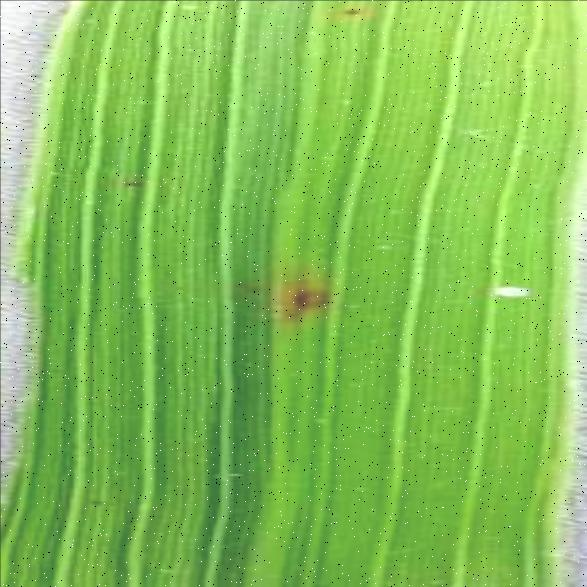Brown_Spot: (274, 274, 333, 321), (112, 166, 149, 192), (80, 489, 112, 511), (334, 0, 366, 20), (223, 270, 247, 290), (244, 280, 264, 298)
